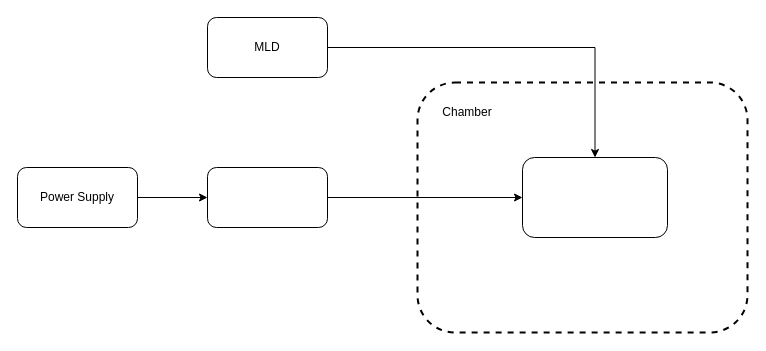
The diagram is 766 pixels wide and 351 high, and some of its shapes have lost their labels. Each missing label, with the centre of its shape:
"HDL" belongs at (595,197).
"LISN" belongs at (267,197).
